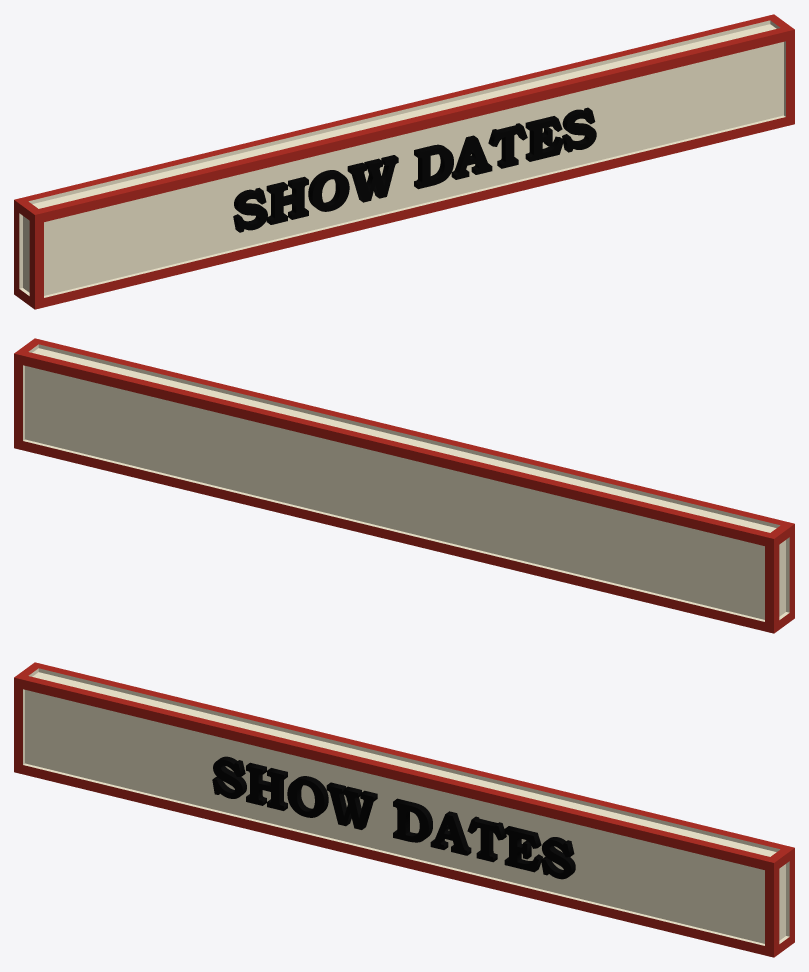
The model's file is showDates.glb.
3 views of the same model, one above another, from view 1: azimuth 30°, elevation 25°; view 2: azimuth 150°, elevation 25°; view 3: azimuth 330°, elevation 25° (orthographic).
Visible parts, largest first — view 1: Button.003, Text.003; view 2: Button.003; view 3: Button.003, Text.003.
Boxes of the visible parts, x1,y1,x2,y2 form: Button.003: (14, 14, 794, 309); Text.003: (233, 107, 596, 232); Button.003: (14, 338, 794, 633); Button.003: (14, 662, 794, 957); Text.003: (212, 756, 575, 879).
Bounding box in the file's own units: 10.5 × 1.25 × 0.55.
